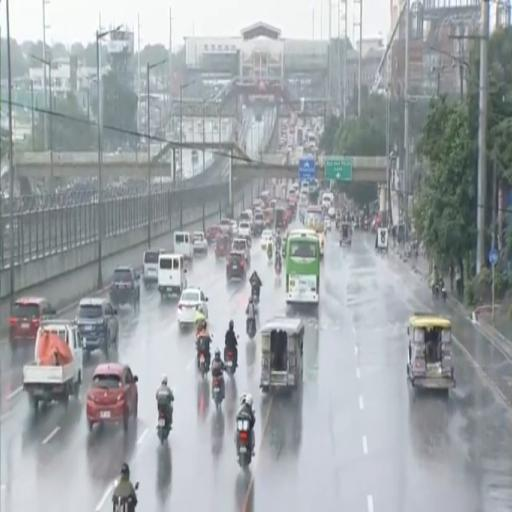bus: (286, 230, 320, 303), (304, 205, 324, 257)
car: (87, 363, 138, 430), (9, 297, 56, 349), (76, 298, 118, 355), (110, 266, 140, 308), (178, 287, 208, 327), (227, 251, 247, 279), (231, 237, 250, 265), (193, 232, 208, 253), (239, 210, 253, 229), (206, 226, 220, 244), (254, 212, 264, 236), (261, 230, 273, 250), (239, 221, 251, 238), (219, 218, 231, 234), (327, 206, 336, 219), (231, 220, 238, 235), (324, 217, 331, 230)
jeepney: (407, 313, 455, 390), (260, 317, 304, 392)
motorcycle: (236, 419, 252, 468), (158, 408, 171, 443), (212, 377, 224, 409), (113, 496, 135, 511), (198, 350, 209, 378), (432, 280, 446, 301), (225, 350, 236, 376), (247, 318, 256, 339), (439, 280, 446, 301), (252, 286, 259, 305), (432, 283, 440, 299), (275, 256, 281, 275), (267, 244, 273, 262)
truck: (23, 319, 83, 411)
